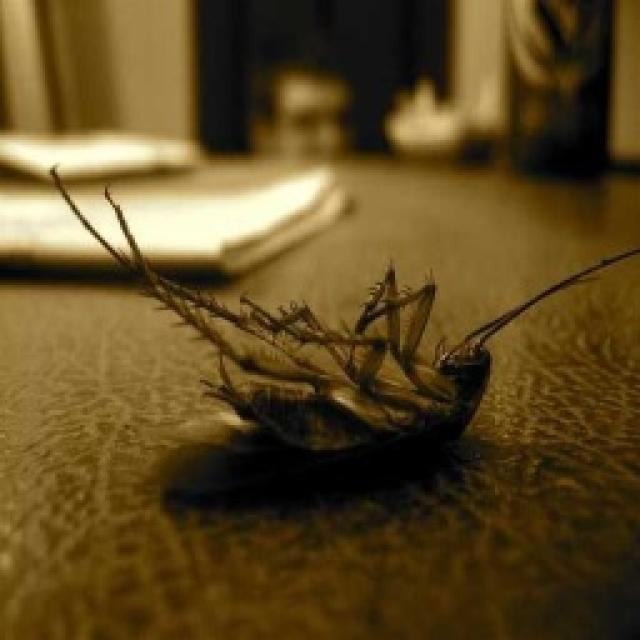cockroach: (44, 159, 637, 492)
